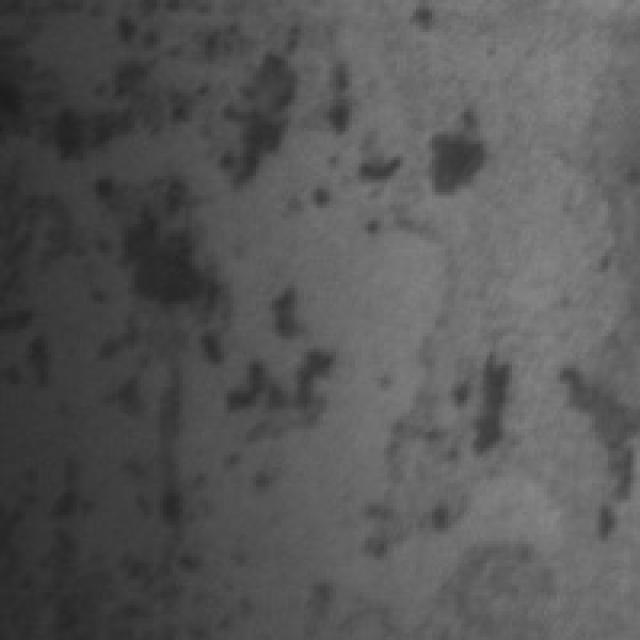inclusion: (429, 102, 499, 198)
patches: (557, 356, 640, 502)
pitted_surface: (4, 41, 438, 614)
